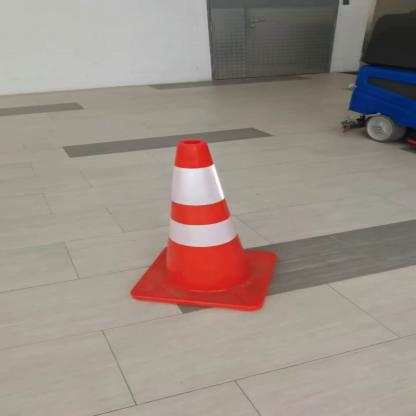cone: (126, 134, 282, 315)
